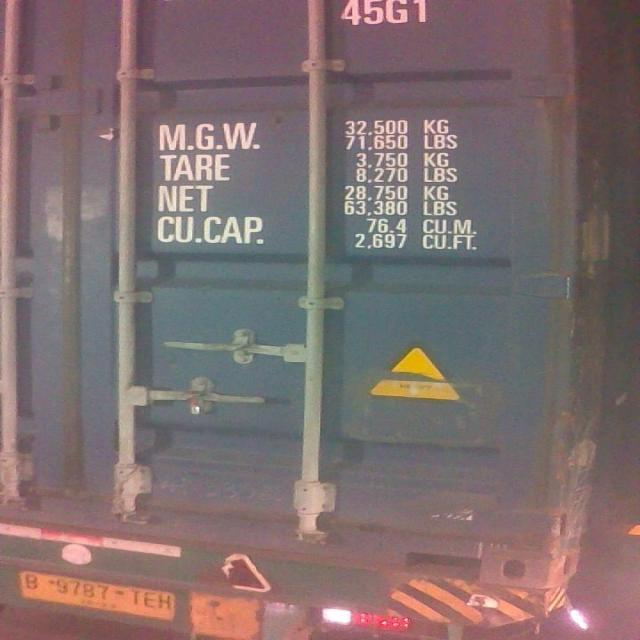seal: (184, 387, 208, 416)
